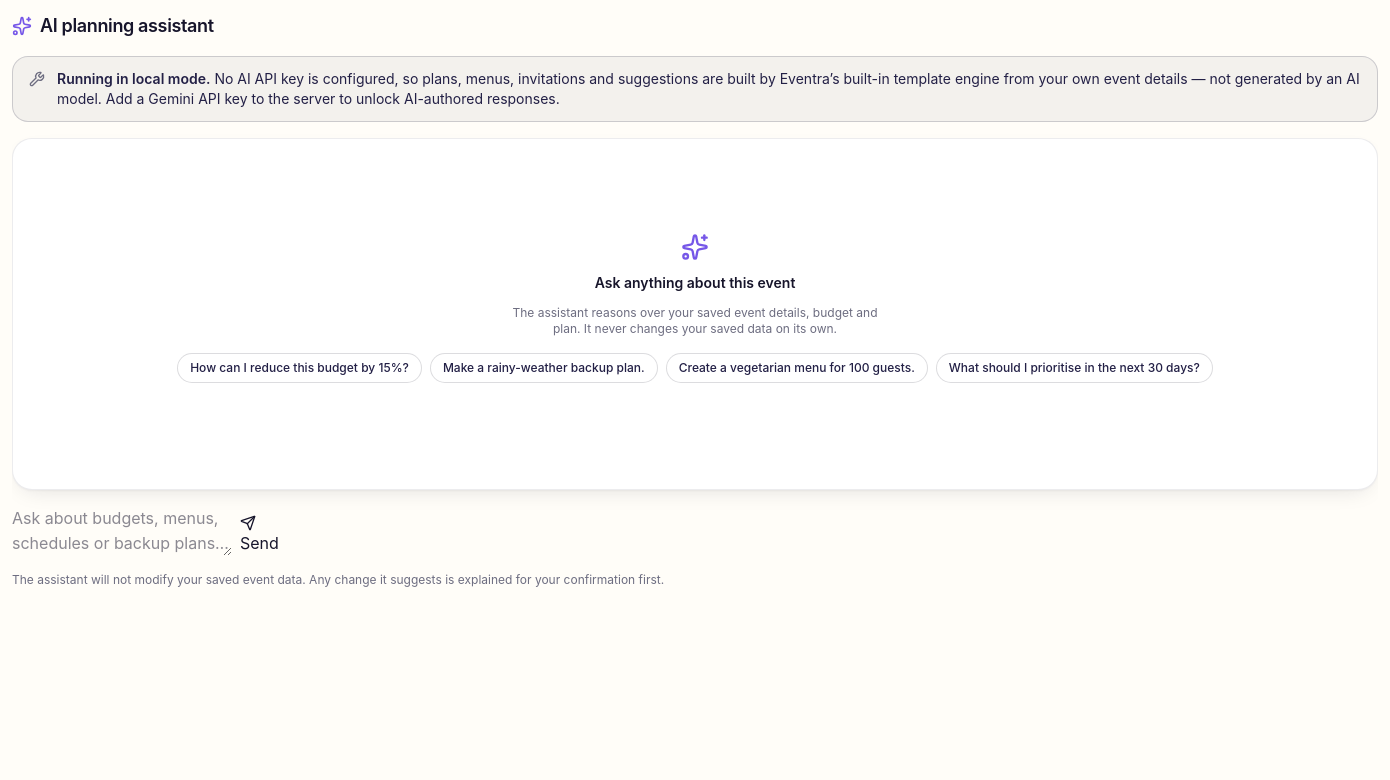
Test: ChatPanel › renders a successful assistant reply
Type "How do I cut costs?" into the text box named "Message the planning assistant".
click(122, 531); type("How do I cut costs?")  # box [12,506,232,556]
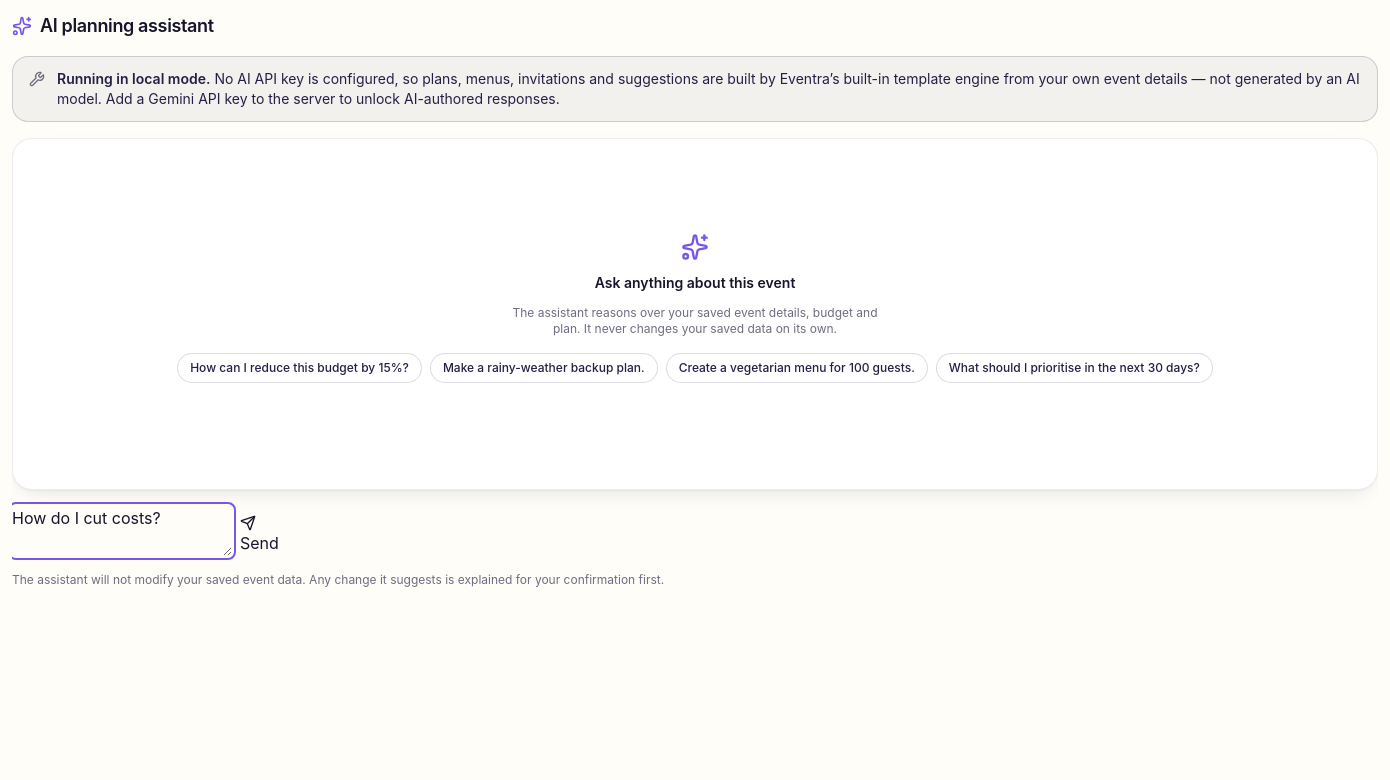
Click the button "Send".
click(259, 535)  # box [240,515,279,556]
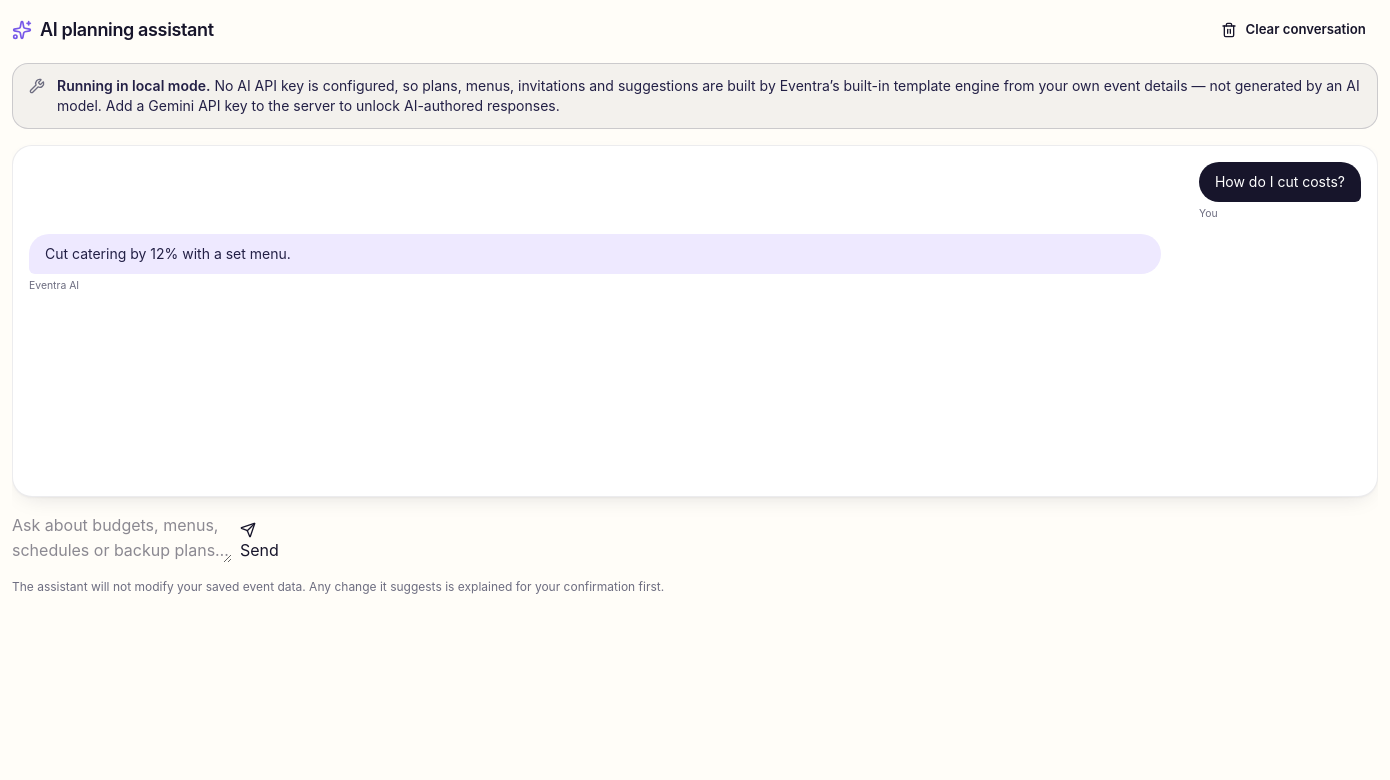
Expected: the text "Cut catering by 12% with a set menu." is shown, [45,245,291,262]
